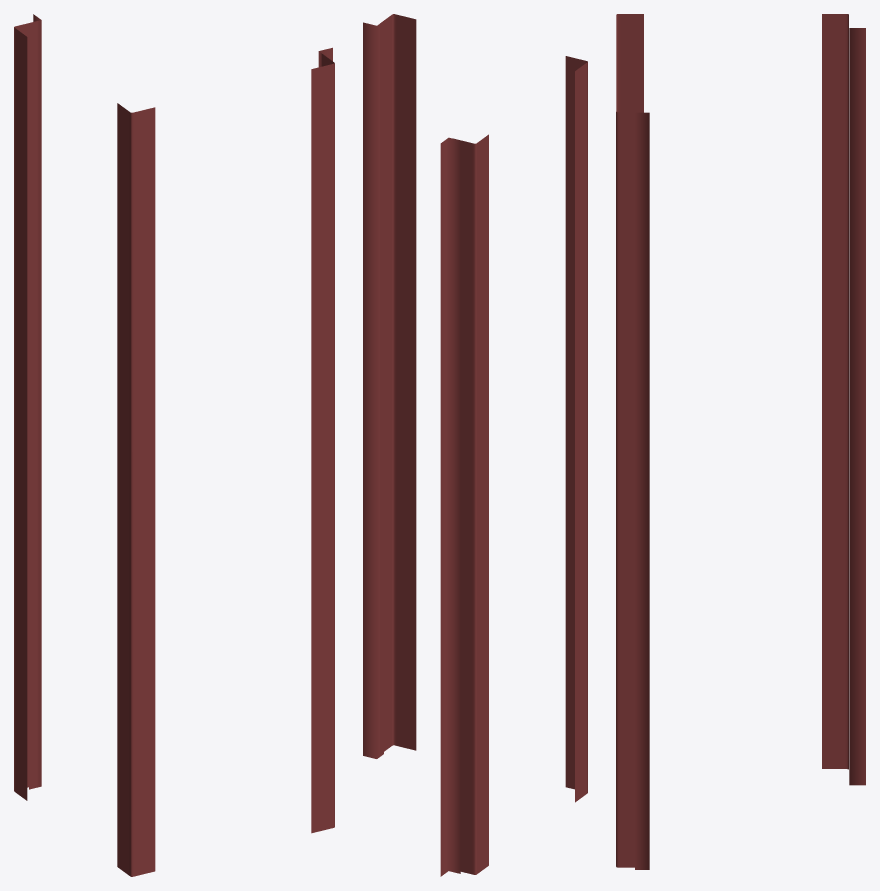
File: Decal_wallIn_B_corner_outLarge.FBX
3 renders of one model, left to right at view 1: azimuth 30°, elevation 25°; view 2: azimuth 150°, elevation 25°; view 3: azimuth 270°, elevation 25°, orthographic. The views are drawn at different scales.
Visible parts, largest first — view 1: Decal_wallIn_B_corner_outLarge; view 2: Decal_wallIn_B_corner_outLarge; view 3: Decal_wallIn_B_corner_outLarge.
Boxes of the visible parts, box(x1,y1,x2,y2) form: Decal_wallIn_B_corner_outLarge: box(14, 14, 334, 876); Decal_wallIn_B_corner_outLarge: box(363, 14, 587, 876); Decal_wallIn_B_corner_outLarge: box(616, 14, 865, 869).
Bounding box in the file's own units: 75.57 × 253 × 75.64.
